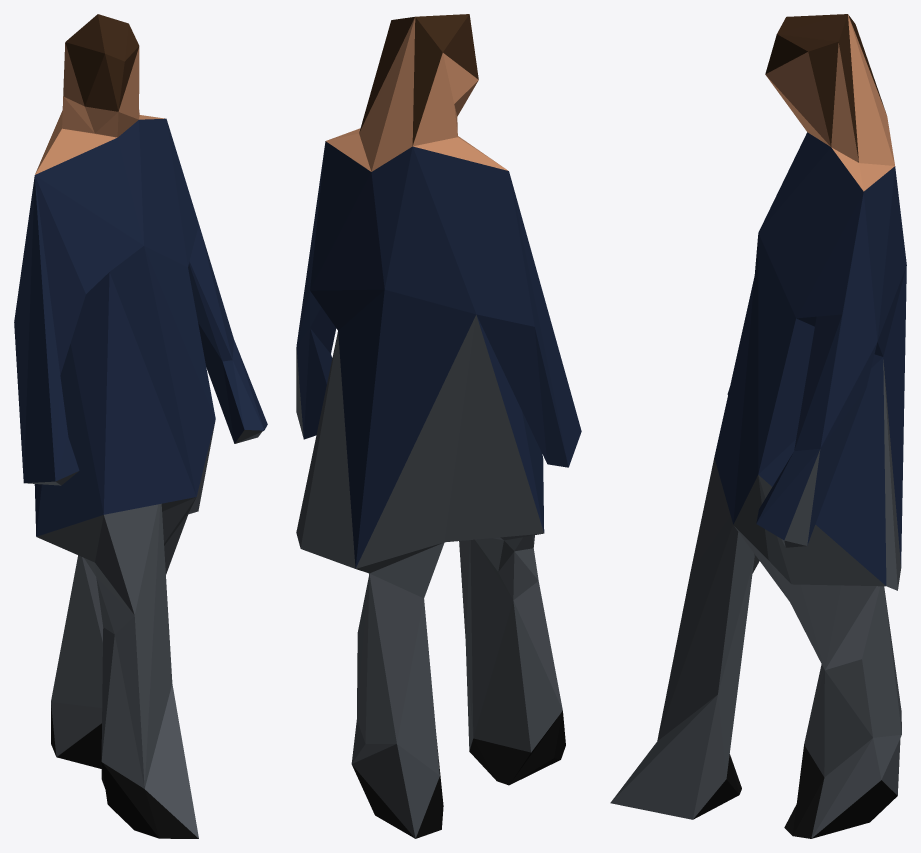
Rendered from walker-17.glb.
3 views of the same model, side by side, from view 1: azimuth 30°, elevation 25°; view 2: azimuth 150°, elevation 25°; view 3: azimuth 270°, elevation 25° (orthographic). The views are drawn at different scales.
Parts seen in each view (by area): view 1: Woman04; view 2: Woman04; view 3: Woman04.
Part boxes in pixels (left/top/right/bottom): Woman04: left=14, top=14, right=267, bottom=838; Woman04: left=296, top=14, right=581, bottom=838; Woman04: left=610, top=14, right=906, bottom=838.
Bounding box in the file's own units: 0.5555 × 1.58 × 0.5358.
